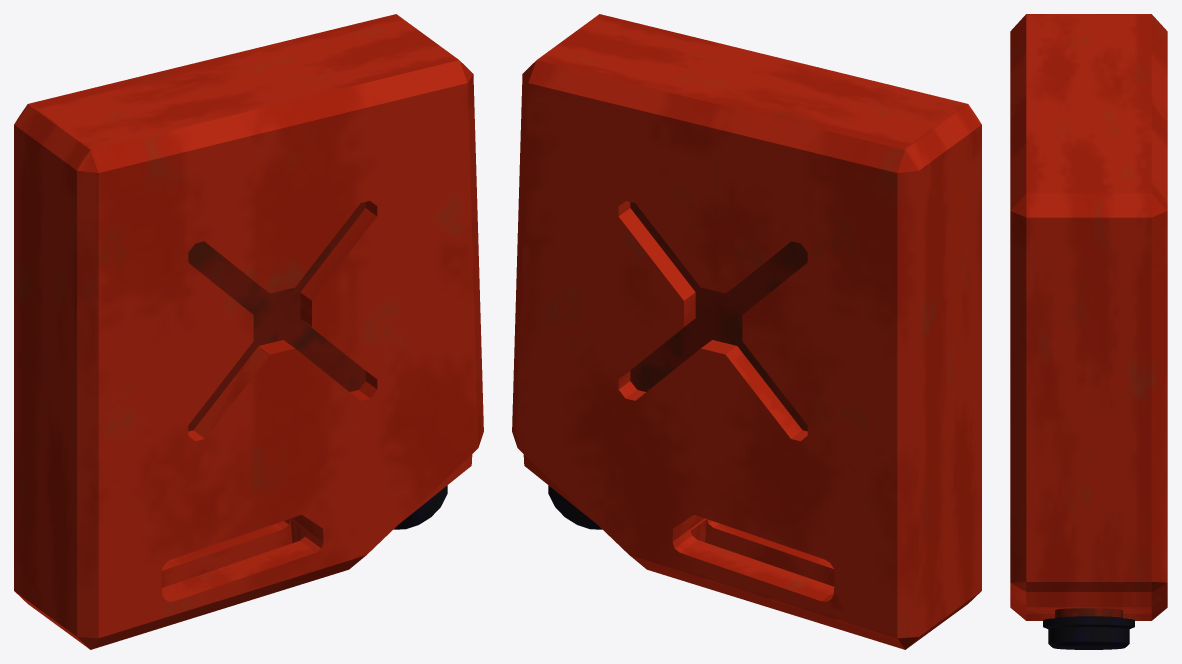
Rendered from jerry_can.glb.
The picture shows the model from 3 angles, left to right: view 1: azimuth 30°, elevation 25°; view 2: azimuth 150°, elevation 25°; view 3: azimuth 270°, elevation 25°; orthographic projection.
Parts seen in each view (by area): view 1: JerryCan; view 2: JerryCan; view 3: JerryCan.
Part boxes in pixels (x1,y1,x2,y2): JerryCan: (14, 14, 483, 649); JerryCan: (512, 14, 981, 649); JerryCan: (1010, 14, 1167, 649).
Bounding box in the file's own units: 0.3597 × 0.4222 × 0.1205.
Materials: 1 (1 with a texture image).
